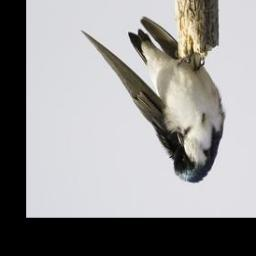Swallow: (81, 16, 228, 186)
